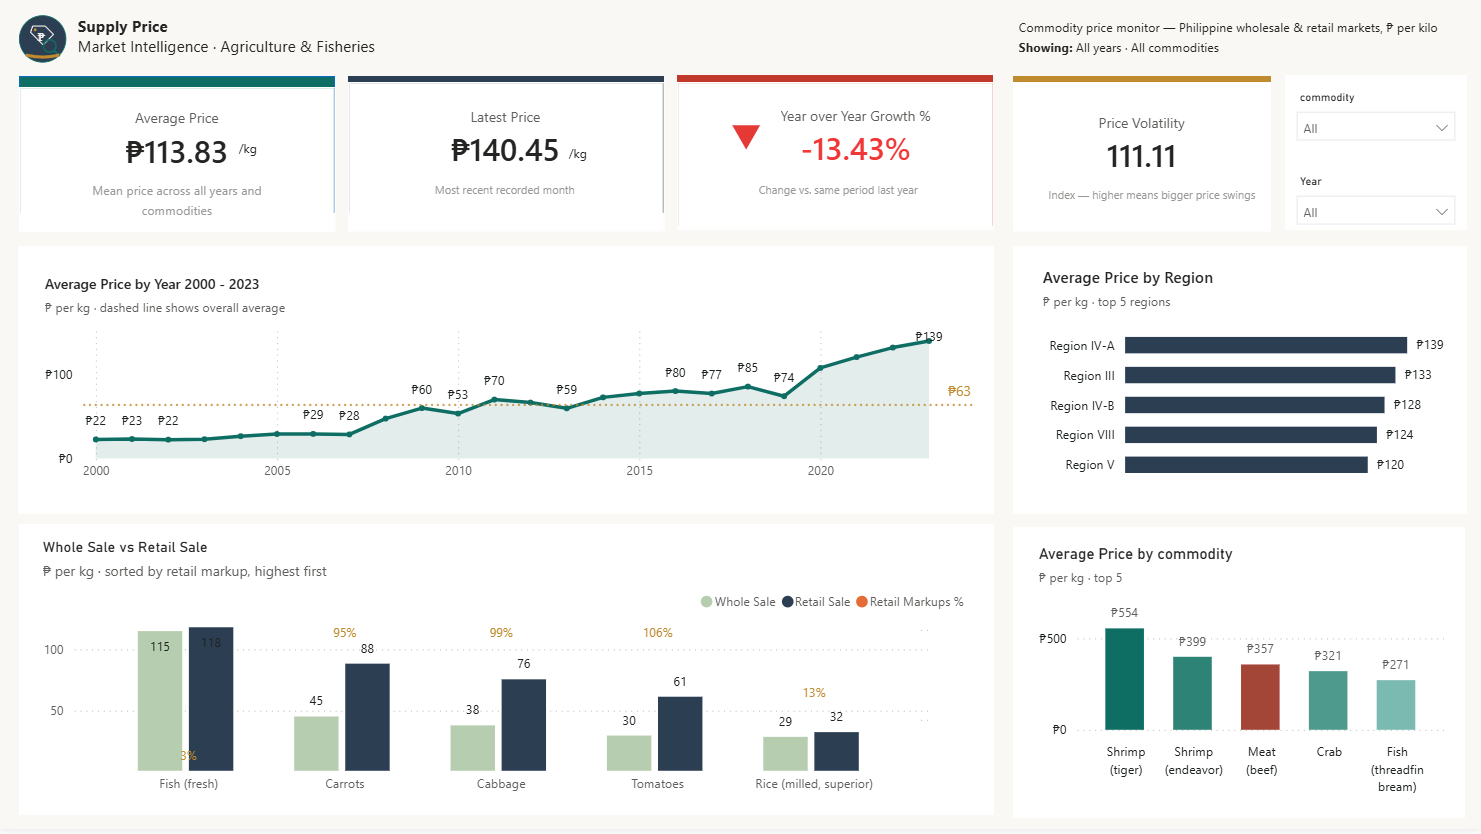

The dashboard page shown, as its layout file describes it:
{"tool":"powerbi","page":{"name":"Page 1","canvas":[1280,720],"ordinal":0},"visuals":[{"type":"shape","box":[1110.1,69.9,157,133.7],"z":0},{"type":"shape","box":[585.7,69.9,272.6,130.2],"z":1000},{"type":"shape","box":[875.5,70.7,222.5,131.1],"z":2000},{"type":"shape","box":[301.9,70.7,272.6,118.2],"z":3000},{"type":"shape","box":[18.1,70.7,272.6,118.2],"z":4000},{"type":"shape","box":[18.1,80.2,272.6,125.1],"z":5000},{"type":"shape","box":[875.5,459.7,389.9,251],"z":6000},{"type":"shape","box":[301.9,75.9,272.6,129.4],"z":7000},{"type":"shape","box":[585.7,75.9,273.4,127.7],"z":8000},{"type":"shape","box":[875.5,75.9,222.5,129.4],"z":9000},{"type":"shape","box":[18.1,457.1,841,251],"z":10000},{"type":"shape","box":[17.3,217.4,841.8,231.2],"z":11000},{"type":"shape","box":[875.5,217.4,391.6,231.2],"z":12000},{"type":"cardVisual","fields":{"Data":["supply wfp_food_prices_phl.Average Price"]},"box":[36.2,84.5,236.3,81.9],"z":13000},{"type":"cardVisual","fields":{"Data":["supply wfp_food_prices_phl.Latest Price"]},"box":[338.1,80.2,199.2,87.1],"z":14000},{"type":"lineChart","title":"Average Price by Year 2000 - 2023","fields":{"Category":["DateTable.Year"],"Y":["supply wfp_food_prices_phl.Average Price"]},"box":[35.4,241.5,816,188],"z":15000},{"type":"lineClusteredColumnComboChart","title":"Whole Sale vs Retail Sale","fields":{"Category":["supply wfp_food_prices_phl.commodity"],"Y":["supply wfp_food_prices_phl.Whole Sale","supply wfp_food_prices_phl.Retail Sale"],"Y2":["supply wfp_food_prices_phl.Retail Premium %"]},"box":[33.6,469.2,809.1,229.4],"z":16000},{"type":"clusteredBarChart","title":"Average Price by Region","fields":{"Category":["supply wfp_food_prices_phl.admin1"],"Y":["supply wfp_food_prices_phl.Average Price"]},"box":[896.2,235.5,356.2,194.1],"z":17000},{"type":"clusteredColumnChart","fields":{"Category":["supply wfp_food_prices_phl.commodity"],"Y":["supply wfp_food_prices_phl.Average Price"]},"box":[892.7,475.3,360.5,223.4],"z":18000},{"type":"cardVisual","fields":{"Data":["supply wfp_food_prices_phl.YoY Growth %"]},"box":[600.3,80.2,234.6,85.4],"z":19000},{"type":"cardVisual","fields":{"Data":["supply wfp_food_prices_phl.Price Volatility"]},"box":[875.5,84.5,222.5,90.6],"z":20000},{"type":"slicer","fields":{"Values":["supply wfp_food_prices_phl.commodity"]},"box":[1110.1,78.5,157,51.8],"z":21000},{"type":"slicer","fields":{"Values":["DateTable.Year"]},"box":[1110.1,150.9,157,53.5],"z":22000},{"type":"textbox","box":[63.8,13.8,335.5,49.2],"z":23000},{"type":"textbox","box":[371.8,153.5,132.8,38],"z":24000},{"type":"textbox","box":[63.8,154.4,181.1,45.7],"z":25000},{"type":"textbox","box":[651.2,153.5,164.7,26.7],"z":26000},{"type":"textbox","box":[892.7,157.8,205.3,33.6],"z":27000},{"type":"textbox","box":[202.7,118.2,53.5,27.6],"z":28000},{"type":"textbox","box":[487.3,122.5,34.5,26.7],"z":29000},{"type":"image","box":[0,17.3,76.8,43.1],"z":30000},{"type":"textbox","box":[875.5,13.8,391.6,49.2],"z":31000}]}

Visuals, with their boxes in screenshot pixels (x1, y1, x2, y2), scaled from the page's 1280x720 canvas onto the 1481x834 screenshot:
shape: {"left": 1284, "top": 81, "right": 1466, "bottom": 236}
shape: {"left": 678, "top": 81, "right": 993, "bottom": 232}
shape: {"left": 1013, "top": 82, "right": 1270, "bottom": 234}
shape: {"left": 349, "top": 82, "right": 665, "bottom": 219}
shape: {"left": 21, "top": 82, "right": 336, "bottom": 219}
shape: {"left": 21, "top": 93, "right": 336, "bottom": 238}
shape: {"left": 1013, "top": 532, "right": 1464, "bottom": 823}
shape: {"left": 349, "top": 88, "right": 665, "bottom": 238}
shape: {"left": 678, "top": 88, "right": 994, "bottom": 236}
shape: {"left": 1013, "top": 88, "right": 1270, "bottom": 238}
shape: {"left": 21, "top": 529, "right": 994, "bottom": 820}
shape: {"left": 20, "top": 252, "right": 994, "bottom": 520}
shape: {"left": 1013, "top": 252, "right": 1466, "bottom": 520}
cardVisual - supply wfp_food_prices_phl.Average Price: {"left": 42, "top": 98, "right": 315, "bottom": 193}
cardVisual - supply wfp_food_prices_phl.Latest Price: {"left": 391, "top": 93, "right": 622, "bottom": 194}
"Average Price by Year 2000 - 2023" lineChart: {"left": 41, "top": 280, "right": 985, "bottom": 498}
"Whole Sale vs Retail Sale" lineClusteredColumnComboChart: {"left": 39, "top": 543, "right": 975, "bottom": 809}
"Average Price by Region" clusteredBarChart: {"left": 1037, "top": 273, "right": 1449, "bottom": 498}
clusteredColumnChart - supply wfp_food_prices_phl.commodity x supply wfp_food_prices_phl.Average Price: {"left": 1033, "top": 551, "right": 1450, "bottom": 809}
cardVisual - supply wfp_food_prices_phl.YoY Growth %: {"left": 695, "top": 93, "right": 966, "bottom": 192}
cardVisual - supply wfp_food_prices_phl.Price Volatility: {"left": 1013, "top": 98, "right": 1270, "bottom": 203}
slicer - supply wfp_food_prices_phl.commodity: {"left": 1284, "top": 91, "right": 1466, "bottom": 151}
slicer - DateTable.Year: {"left": 1284, "top": 175, "right": 1466, "bottom": 237}
textbox: {"left": 74, "top": 16, "right": 462, "bottom": 73}
textbox: {"left": 430, "top": 178, "right": 584, "bottom": 222}
textbox: {"left": 74, "top": 179, "right": 283, "bottom": 232}
textbox: {"left": 753, "top": 178, "right": 944, "bottom": 209}
textbox: {"left": 1033, "top": 183, "right": 1270, "bottom": 222}
textbox: {"left": 235, "top": 137, "right": 296, "bottom": 169}
textbox: {"left": 564, "top": 142, "right": 604, "bottom": 173}
image: {"left": 0, "top": 20, "right": 89, "bottom": 70}
textbox: {"left": 1013, "top": 16, "right": 1466, "bottom": 73}
